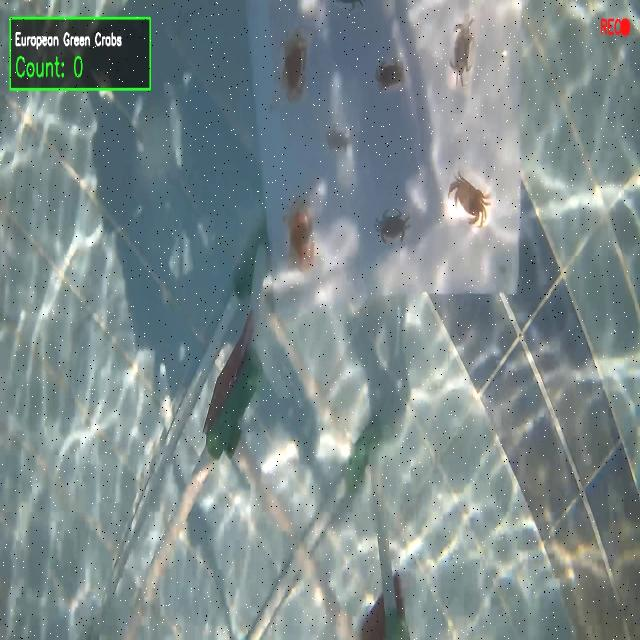European_Green_Crab: (442, 12, 483, 102), (373, 201, 411, 249), (325, 124, 351, 157)
